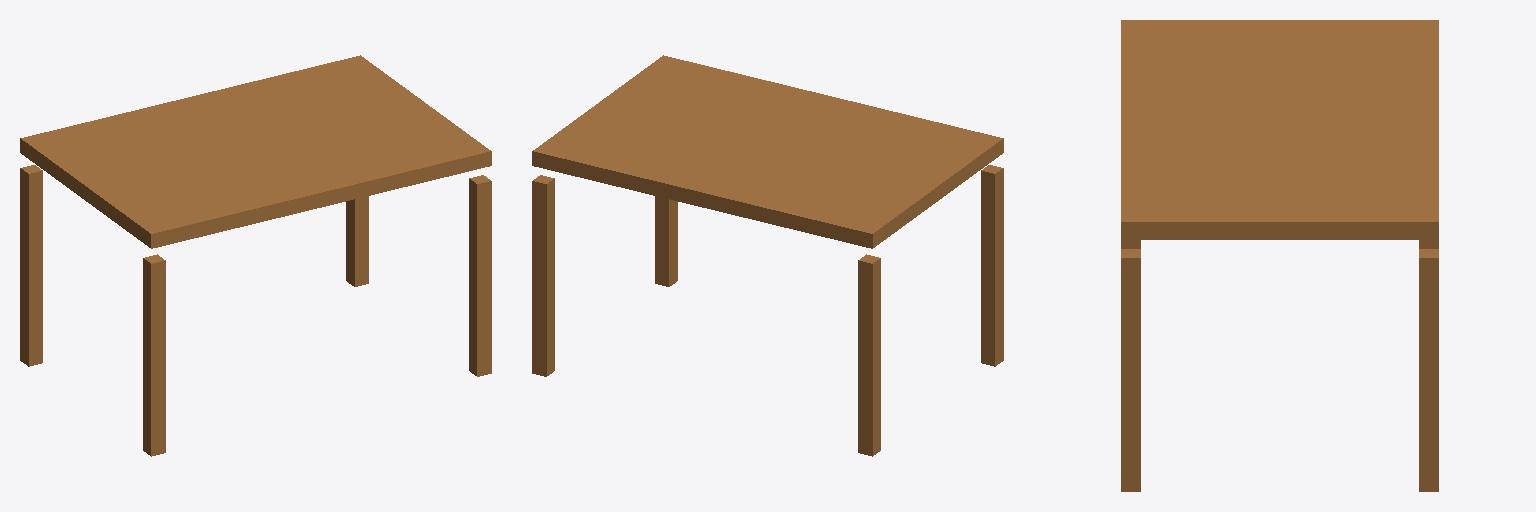
The robot description file, URDF, robot "simple_table":
<?xml version="1.0"?>
<robot name="simple_table">
  <!-- 桌面 -->
  <link name="table_top">
    <visual name="table_top_vis">
      <origin xyz="0 0 0.725" rpy="0 0 0"/>
      <geometry>
        <box size="1.2 0.8 0.05"/>
      </geometry>
      <material name="table_material">
        <color rgba="0.7 0.5 0.3 1.0"/>
      </material>
    </visual>
    <collision name="table_top_col">
      <origin xyz="0 0 0.725" rpy="0 0 0"/>
      <geometry>
        <box size="1.2 0.8 0.05"/>
      </geometry>
    </collision>
  </link>

  <!-- 四条桌腿 -->
  <!-- leg_1 -->
  <link name="leg_1">
    <visual name="leg_1_vis">
      <origin xyz="0 0 0.325" rpy="0 0 0"/>
      <geometry>
        <box size="0.05 0.05 0.65"/>
      </geometry>
      <material name="table_material"/>
    </visual>
    <collision name="leg_1_col">
      <origin xyz="0 0 0.325" rpy="0 0 0"/>
      <geometry>
        <box size="0.05 0.05 0.65"/>
      </geometry>
    </collision>
  </link>
  <joint name="joint_leg_1" type="fixed">
    <parent link="table_top"/>
    <child link="leg_1"/>
    <origin xyz="0.575 0.375 0" rpy="0 0 0"/>
  </joint>

  <!-- leg_2 -->
  <link name="leg_2">
    <visual name="leg_2_vis">
      <origin xyz="0 0 0.325" rpy="0 0 0"/>
      <geometry>
        <box size="0.05 0.05 0.65"/>
      </geometry>
      <material name="table_material"/>
    </visual>
    <collision name="leg_2_col">
      <origin xyz="0 0 0.325" rpy="0 0 0"/>
      <geometry>
        <box size="0.05 0.05 0.65"/>
      </geometry>
    </collision>
  </link>
  <joint name="joint_leg_2" type="fixed">
    <parent link="table_top"/>
    <child link="leg_2"/>
    <origin xyz="-0.575 0.375 0" rpy="0 0 0"/>
  </joint>

  <!-- leg_3 -->
  <link name="leg_3">
    <visual name="leg_3_vis">
      <origin xyz="0 0 0.325" rpy="0 0 0"/>
      <geometry>
        <box size="0.05 0.05 0.65"/>
      </geometry>
      <material name="table_material"/>
    </visual>
    <collision name="leg_3_col">
      <origin xyz="0 0 0.325" rpy="0 0 0"/>
      <geometry>
        <box size="0.05 0.05 0.65"/>
      </geometry>
    </collision>
  </link>
  <joint name="joint_leg_3" type="fixed">
    <parent link="table_top"/>
    <child link="leg_3"/>
    <origin xyz="-0.575 -0.375 0" rpy="0 0 0"/>
  </joint>

  <!-- leg_4 -->
  <link name="leg_4">
    <visual name="leg_4_vis">
      <origin xyz="0 0 0.325" rpy="0 0 0"/>
      <geometry>
        <box size="0.05 0.05 0.65"/>
      </geometry>
      <material name="table_material"/>
    </visual>
    <collision name="leg_4_col">
      <origin xyz="0 0 0.325" rpy="0 0 0"/>
      <geometry>
        <box size="0.05 0.05 0.65"/>
      </geometry>
    </collision>
  </link>
  <joint name="joint_leg_4" type="fixed">
    <parent link="table_top"/>
    <child link="leg_4"/>
    <origin xyz="0.575 -0.375 0" rpy="0 0 0"/>
  </joint>
</robot>

--- Render facts (derived) ---
3 views of the same robot in one strip: view 1: azimuth 30°, elevation 25°; view 2: azimuth 150°, elevation 25°; view 3: azimuth 270°, elevation 25° (orthographic).
Robot: simple_table — 5 links, 4 joints (4 fixed); root link table_top; default pose: every joint at zero.
Visible links, largest first — view 1: table_top, leg_3, leg_4, leg_2, leg_1; view 2: table_top, leg_1, leg_2, leg_3, leg_4; view 3: table_top, leg_1, leg_4.
Boxes of the visible links, left/top/right/bottom form: table_top: left=20, top=55, right=491, bottom=248; leg_3: left=143, top=254, right=165, bottom=456; leg_4: left=469, top=175, right=491, bottom=376; leg_2: left=20, top=165, right=42, bottom=366; leg_1: left=346, top=196, right=368, bottom=286; table_top: left=532, top=55, right=1003, bottom=248; leg_1: left=532, top=175, right=554, bottom=376; leg_2: left=858, top=254, right=880, bottom=456; leg_3: left=981, top=165, right=1003, bottom=366; leg_4: left=655, top=196, right=677, bottom=286; table_top: left=1121, top=20, right=1438, bottom=239; leg_1: left=1419, top=249, right=1438, bottom=491; leg_4: left=1121, top=249, right=1140, bottom=491.
Size in the robot's own frame: 1.2 by 0.8 by 0.75 metres.
Geometry: primitives only (box / cylinder / sphere), no mesh files.
